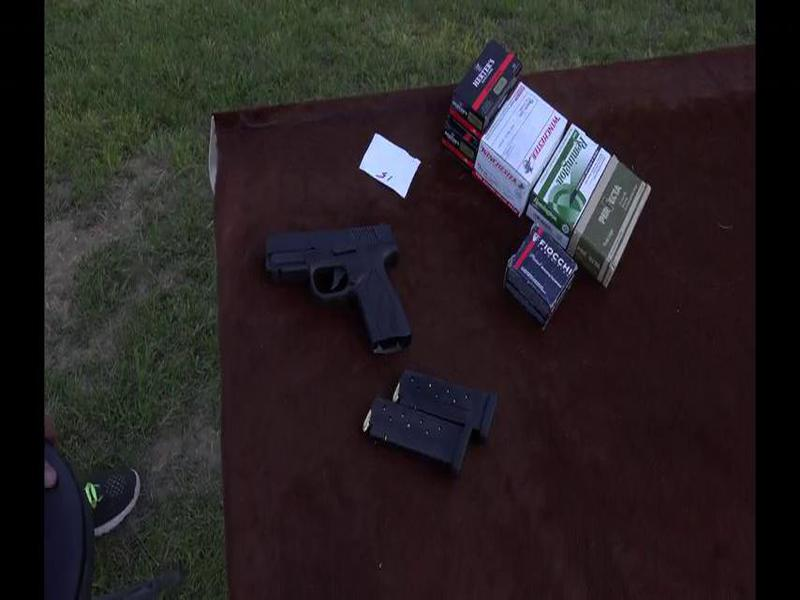Pistola: (258, 220, 419, 364)
